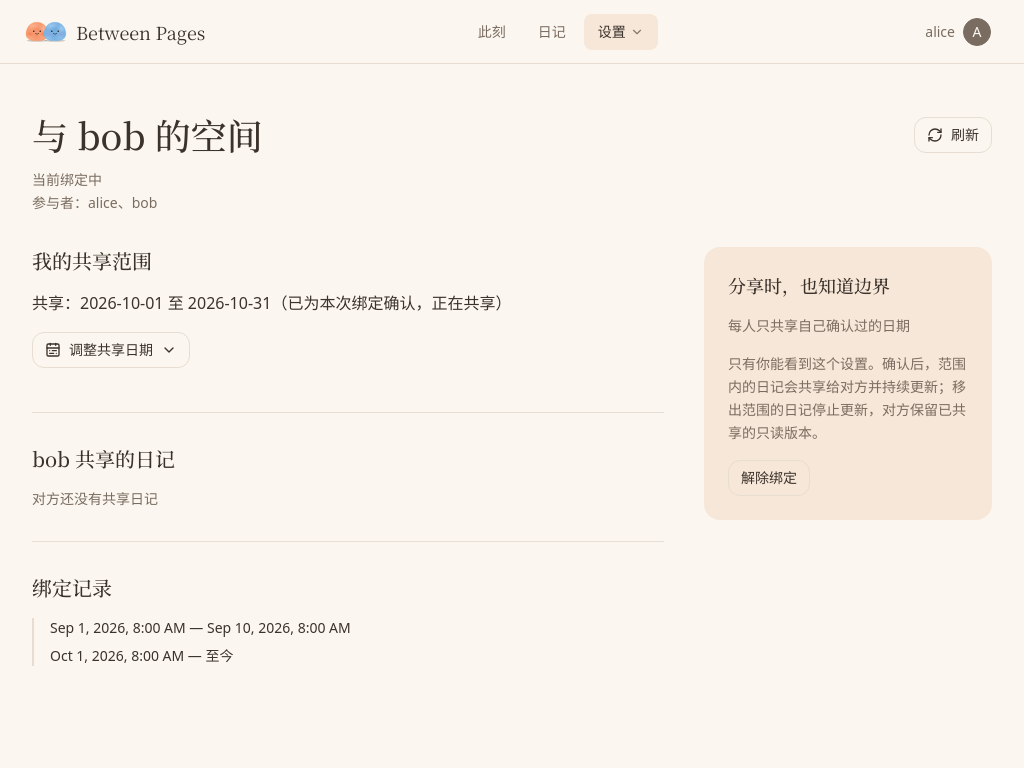
Test: SpacePage › [adr:spaces-and-invitations#7] unbinds only after a second confirmation, naming the period it ends
This screenshot has width=1024, height=768.
Click the button "解除绑定" at (769, 478), box left=728, top=460, right=810, bottom=496
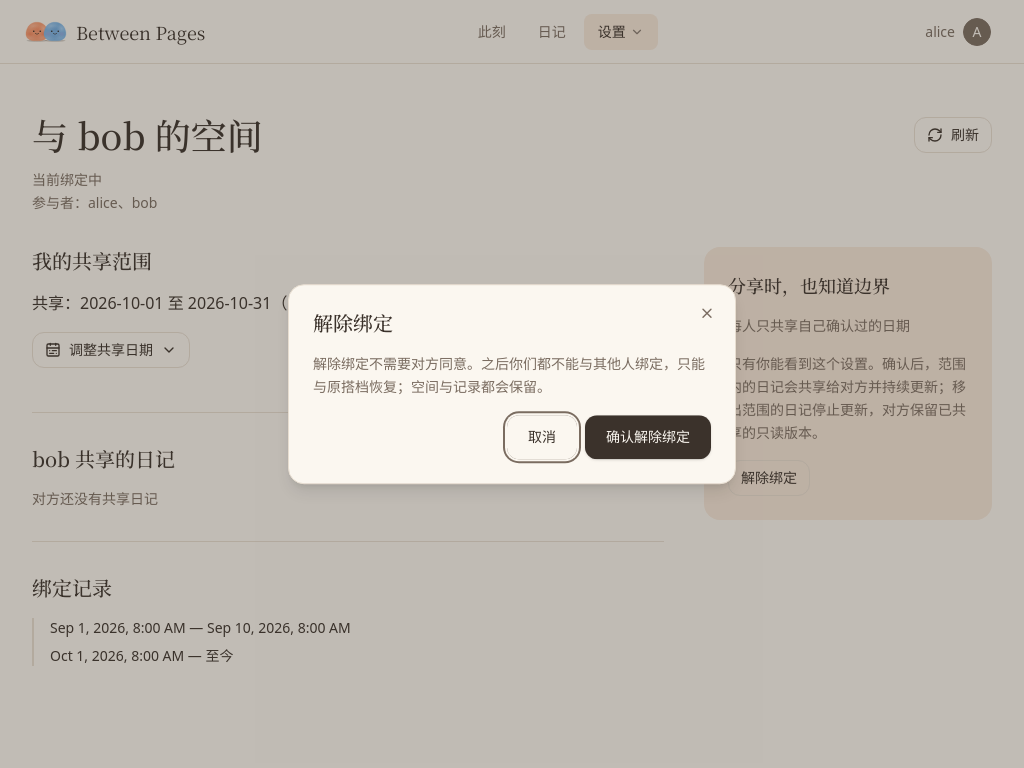
Click the button "确认解除绑定" at (648, 437), box left=585, top=415, right=711, bottom=459
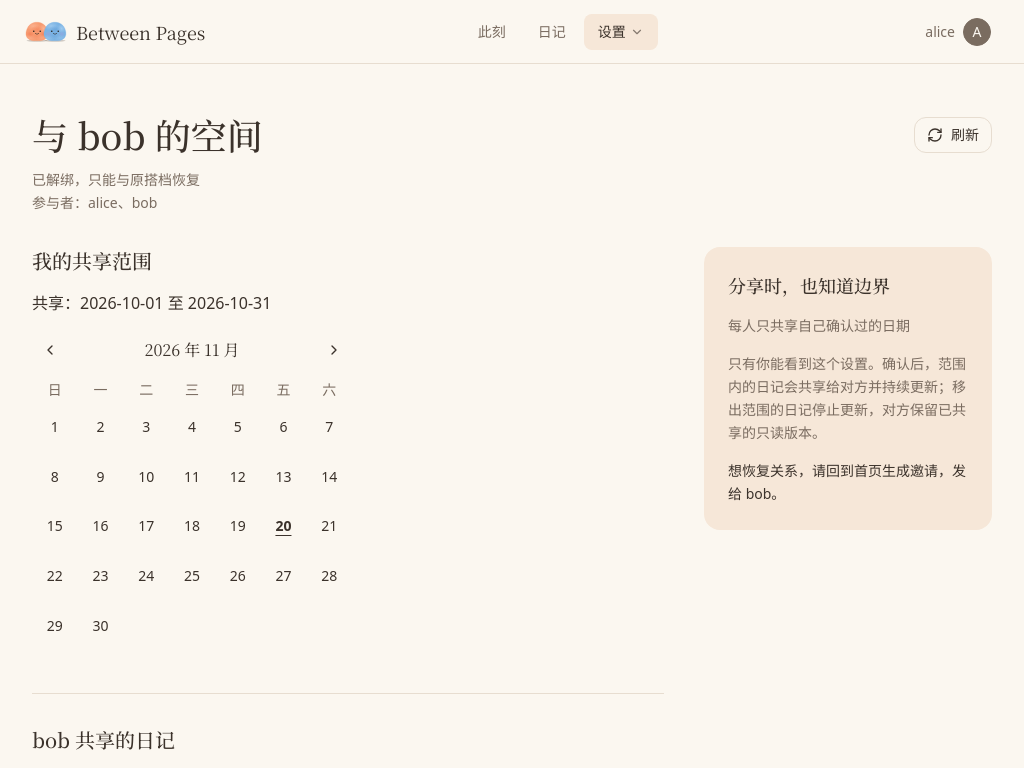
Check: the text "已解绑，只能与原搭档恢复" is shown, box left=32, top=170, right=200, bottom=189
